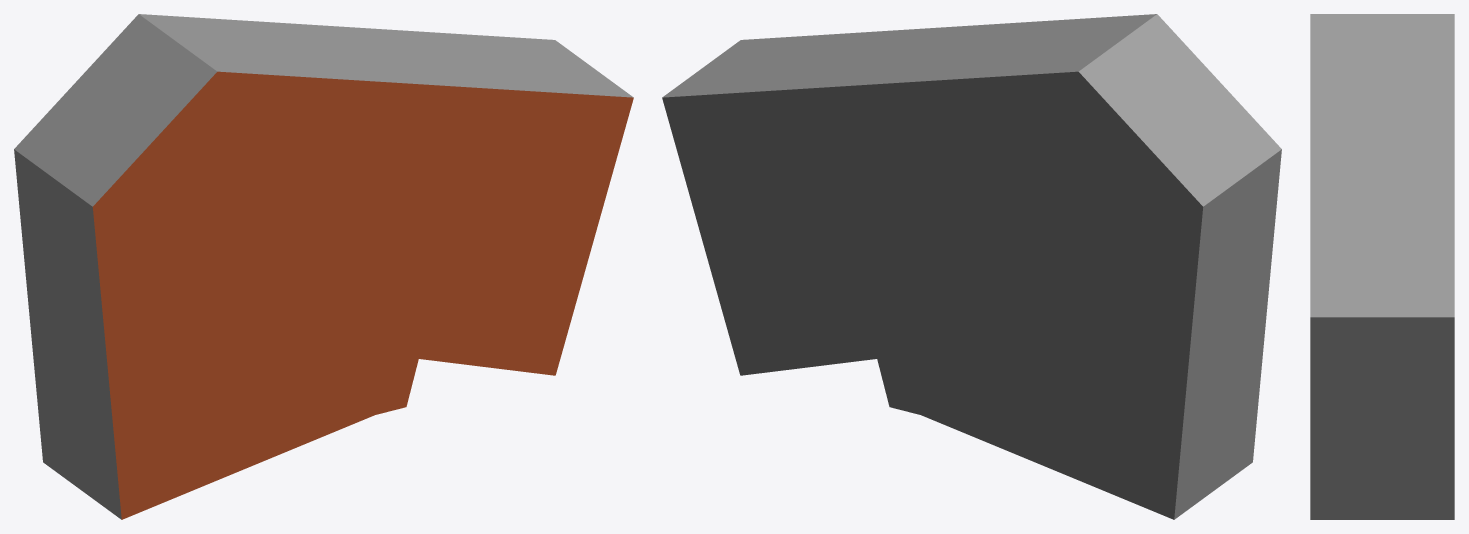
The model's file is construction_2188_assumed_A_Casa_h6m.obj.
3 renders of one model, left to right at view 1: azimuth 30°, elevation 25°; view 2: azimuth 150°, elevation 25°; view 3: azimuth 270°, elevation 25°, orthographic. The views are drawn at different scales.
Parts seen in each view (by area): view 1: construction_2188_assumed_A_Casa; view 2: construction_2188_assumed_A_Casa; view 3: construction_2188_assumed_A_Casa.
Part boxes in pixels (bbox=[...]): construction_2188_assumed_A_Casa: bbox=[14, 14, 633, 519]; construction_2188_assumed_A_Casa: bbox=[662, 14, 1281, 519]; construction_2188_assumed_A_Casa: bbox=[1310, 14, 1454, 519].
Size of the model in its own units: 23.81 by 17.87 by 6.
